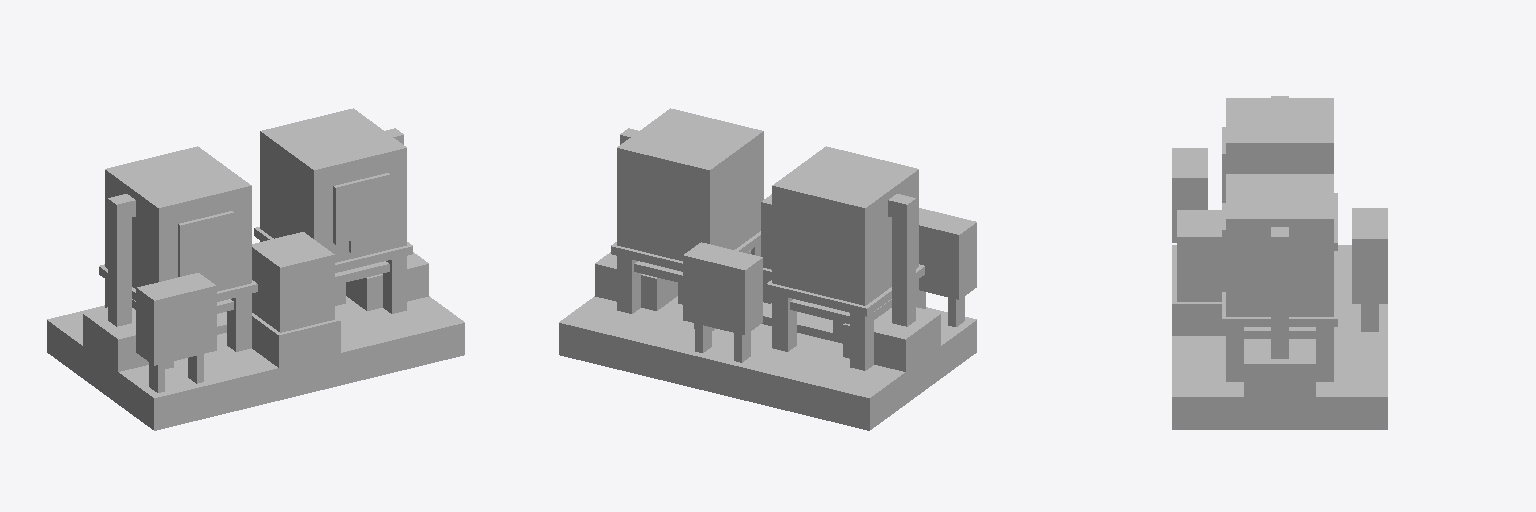
The model's file is refinery_mirrored.obj.
3 renders of one model, left to right at view 1: azimuth 30°, elevation 25°; view 2: azimuth 150°, elevation 25°; view 3: azimuth 270°, elevation 25°, orthographic.
Visible parts, largest first — view 1: refinery; view 2: refinery; view 3: refinery.
Part boxes in pixels (bbox=[...]): refinery: bbox=[47, 108, 464, 430]; refinery: bbox=[559, 108, 976, 430]; refinery: bbox=[1172, 96, 1387, 429].
Bounding box in the file's own units: 5 × 3 × 3.